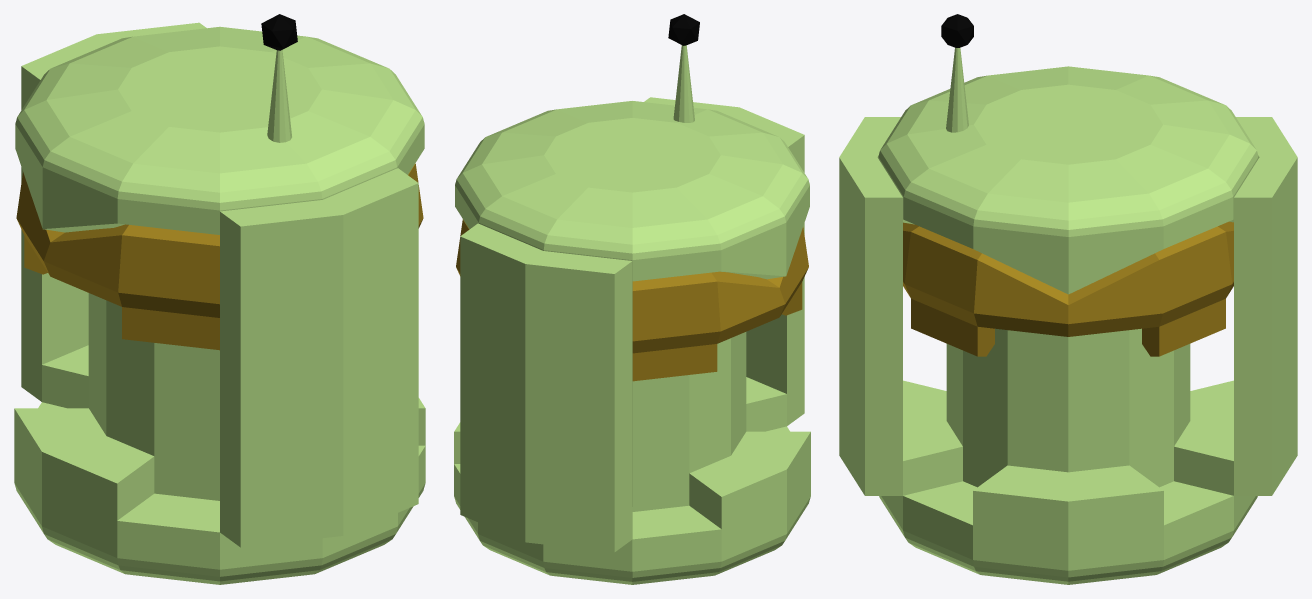
The model's file is generator.glb.
The picture shows the model from 3 angles, left to right: view 1: azimuth 30°, elevation 25°; view 2: azimuth 150°, elevation 25°; view 3: azimuth 270°, elevation 25°; orthographic projection. The views are drawn at different scales.
Parts seen in each view (by area): view 1: Cylinder, Torus, Cone, Icosphere; view 2: Cylinder, Torus, Cone, Icosphere; view 3: Cylinder, Torus, Cone, Icosphere.
Part boxes in pixels (bbox=[...]): Cylinder: bbox=[14, 22, 425, 584]; Torus: bbox=[16, 163, 423, 350]; Cone: bbox=[267, 50, 291, 142]; Icosphere: bbox=[261, 14, 297, 50]; Cylinder: bbox=[454, 97, 810, 584]; Torus: bbox=[456, 219, 808, 381]; Cone: bbox=[673, 45, 694, 122]; Icosphere: bbox=[668, 14, 699, 45]; Cylinder: bbox=[839, 66, 1297, 584]; Torus: bbox=[903, 221, 1233, 356]; Cone: bbox=[946, 47, 968, 132]; Icosphere: bbox=[941, 14, 973, 47].
Bounding box in the file's own units: 2 × 2.87 × 2.4.
